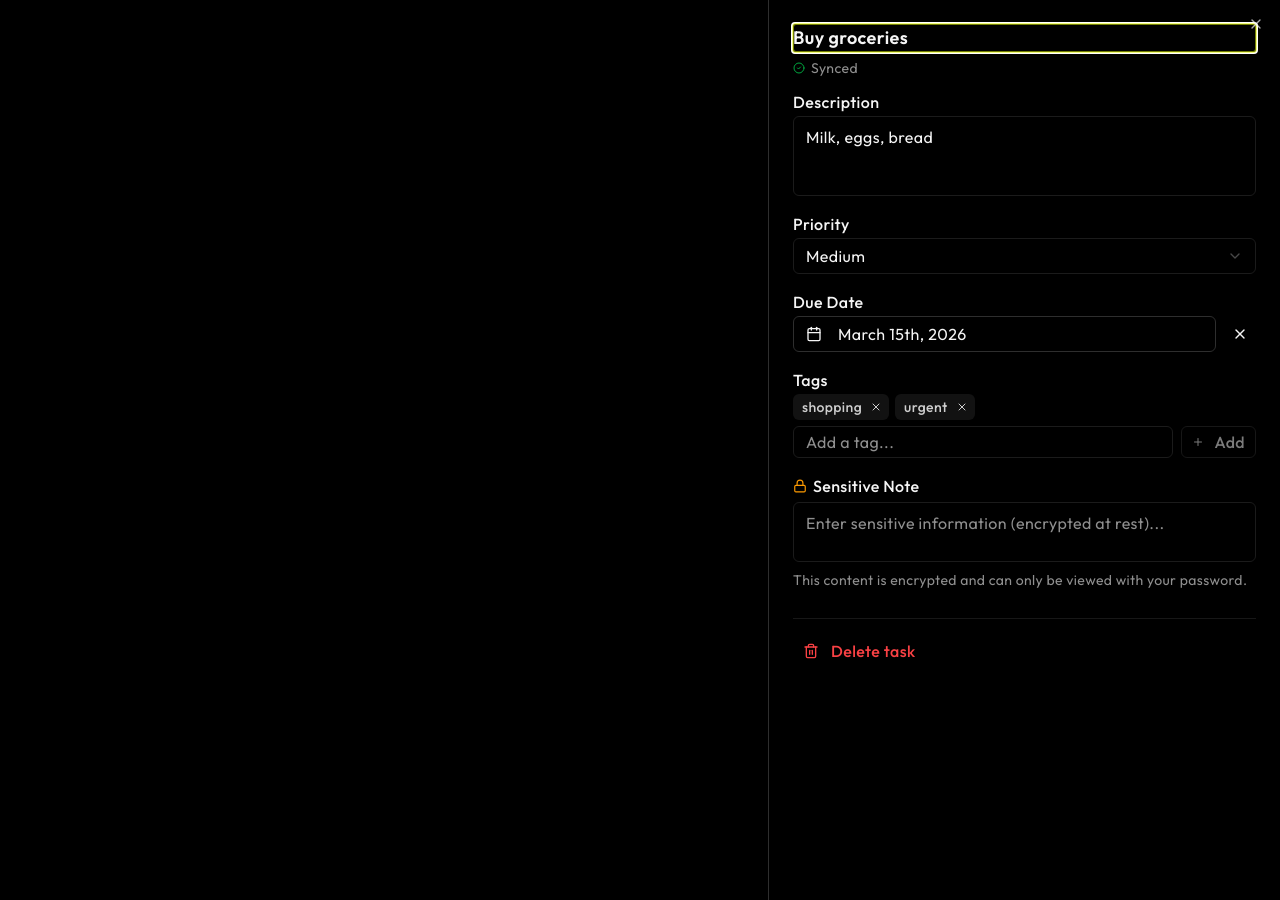
TaskDetailSheet › should show delete confirmation on delete click
Click the button "Delete task" at (859, 651), box x1=793 y1=635 x2=926 y2=667
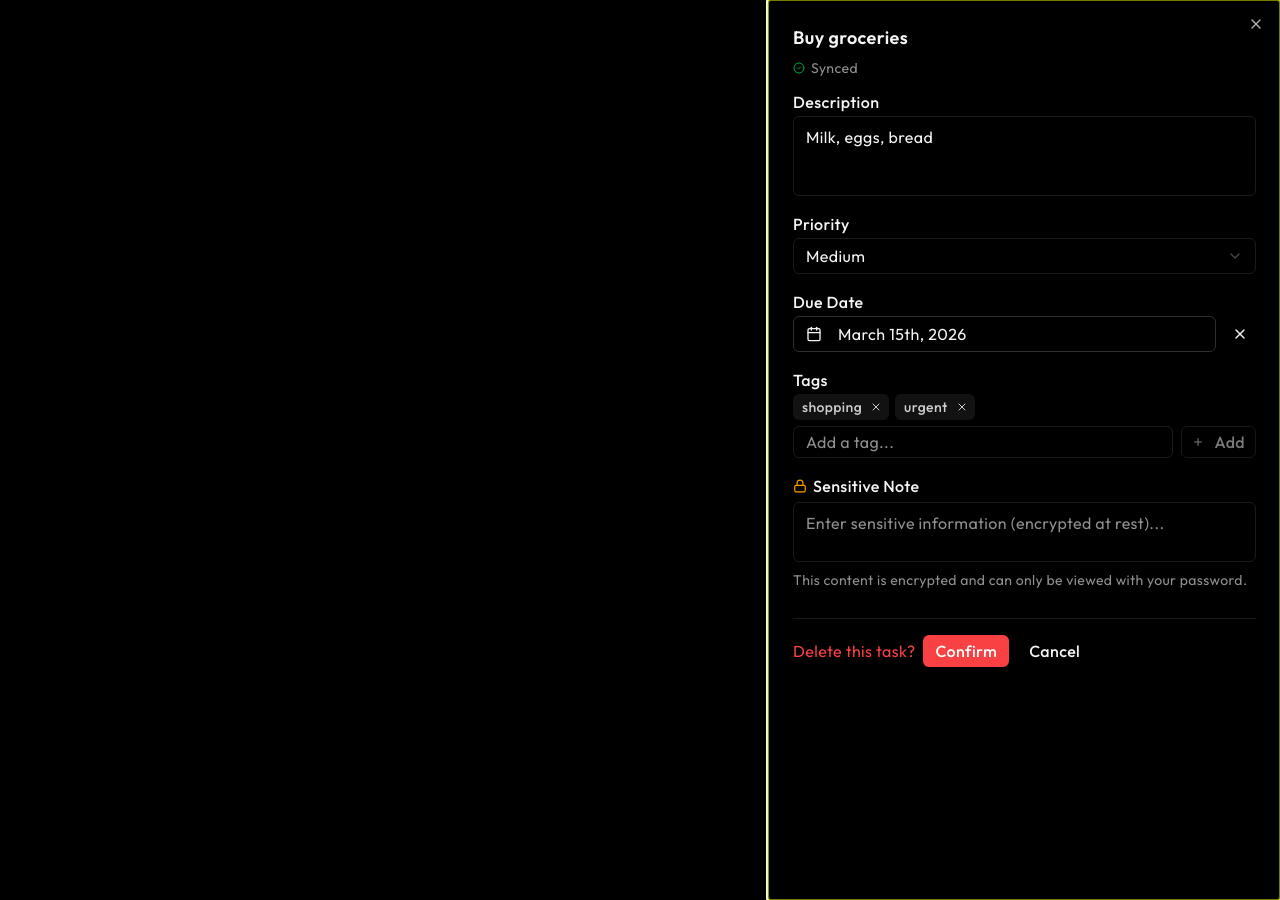
Expected: the text "Delete this task?" is shown, x1=793 y1=639 x2=915 y2=663
Expected: the button "Confirm" is shown, x1=923 y1=635 x2=1009 y2=667
